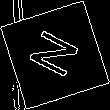N_SE: (24, 26, 86, 84)
